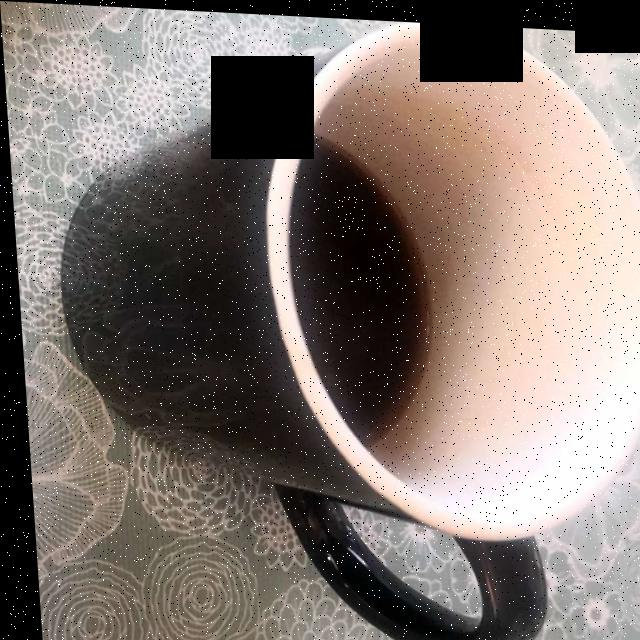coffee-with-caffeine: (291, 135, 426, 436)
